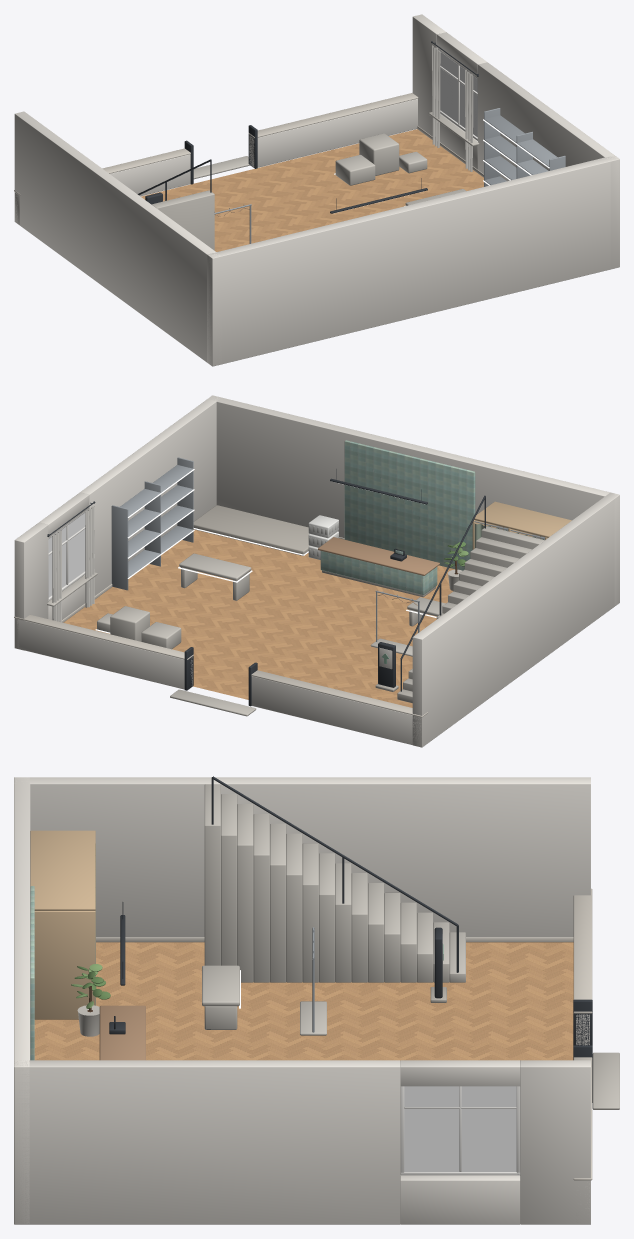
File: ground.glb
3 renders of one model, top to bottom at view 1: azimuth 30°, elevation 25°; view 2: azimuth 150°, elevation 25°; view 3: azimuth 270°, elevation 25°, orthographic. The views are drawn at different scales.
Visible parts, largest first — view 1: shop_ground, shop_windows; view 2: shop_ground, shop_windows; view 3: shop_ground, shop_windows.
Part boxes in pixels (bbox=[...]): shop_ground: bbox=[14, 14, 619, 366]; shop_windows: bbox=[440, 52, 477, 136]; shop_ground: bbox=[14, 395, 619, 747]; shop_windows: bbox=[48, 513, 85, 597]; shop_ground: bbox=[14, 776, 619, 1224]; shop_windows: bbox=[404, 1086, 516, 1171].
Bounding box in the file's own units: 12.62 × 4.23 × 11.13.
10 materials, 2 textured.
